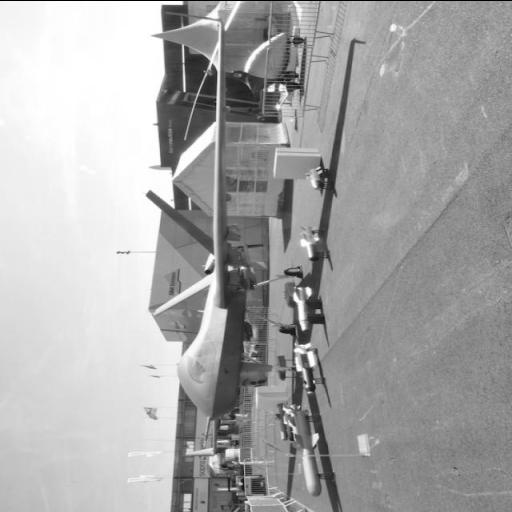uav: (145, 0, 300, 459)
